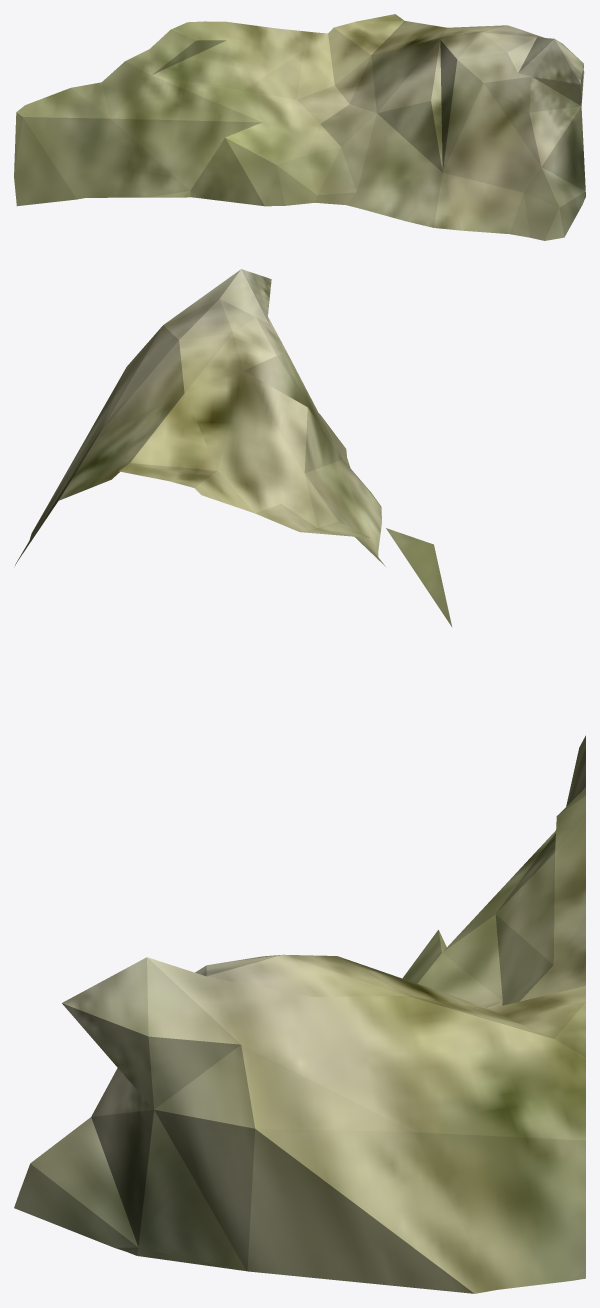
3 renders of one model, top to bottom at view 1: azimuth 30°, elevation 25°; view 2: azimuth 150°, elevation 25°; view 3: azimuth 270°, elevation 25°, orthographic. The views are drawn at different scales.
Bounding box in the file's own units: 1.27 × 0.4058 × 0.7637.
Materials: 1 (1 with a texture image).
